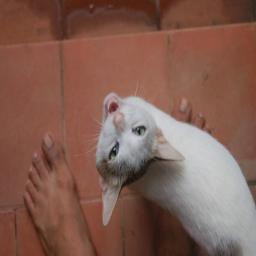catnose: (111, 110, 127, 132)
